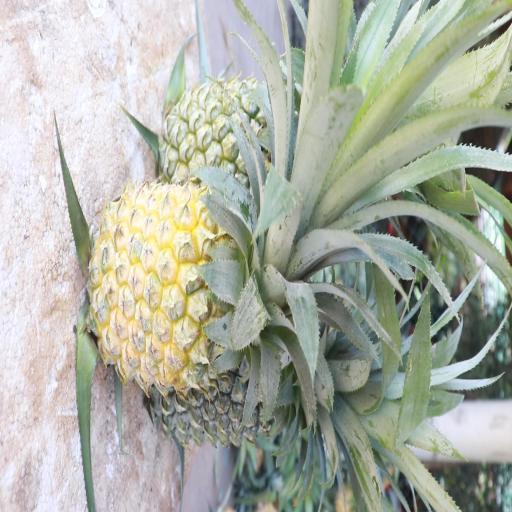------------------------------: (156, 62, 316, 188)
Pineapple - v8 v1: (92, 170, 282, 382)
